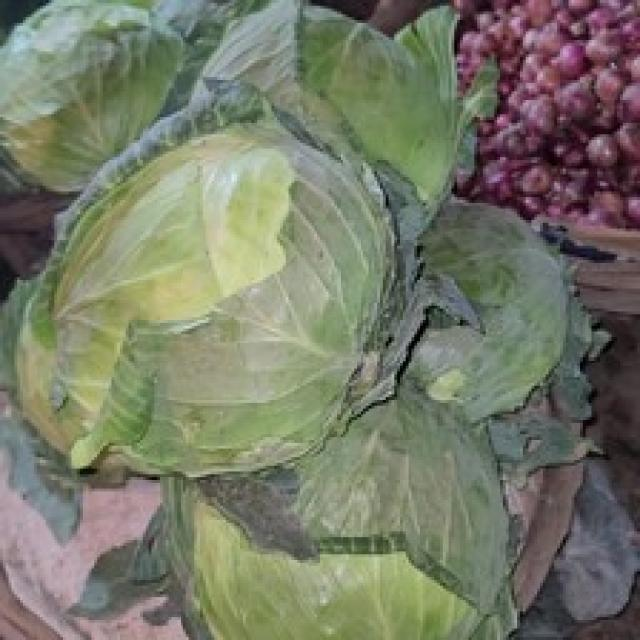Cabbage: (0, 0, 611, 637)
